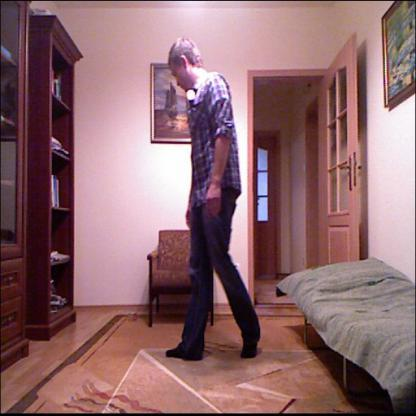normal: (155, 26, 261, 371)
